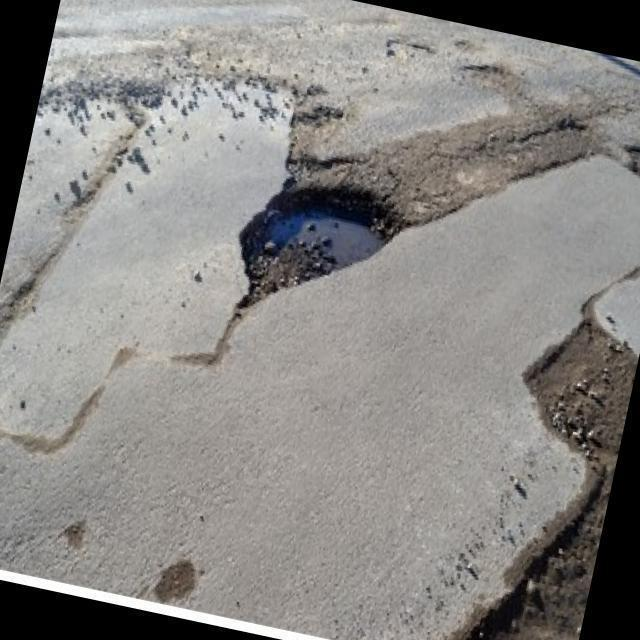pothole: (225, 163, 414, 339), (624, 134, 640, 180)
